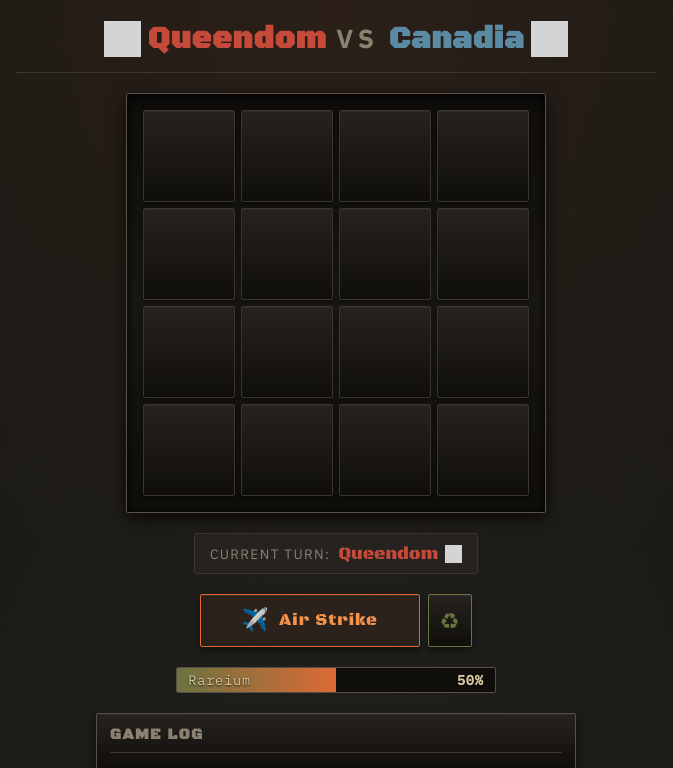
strategiske våpen: målvalg › avfyrer ikke før alle målene er valgt
The image size is (673, 768).
Click the button "✈️ Air Strike" at (310, 621), box top-left (200, 594), bottom-right (420, 648)
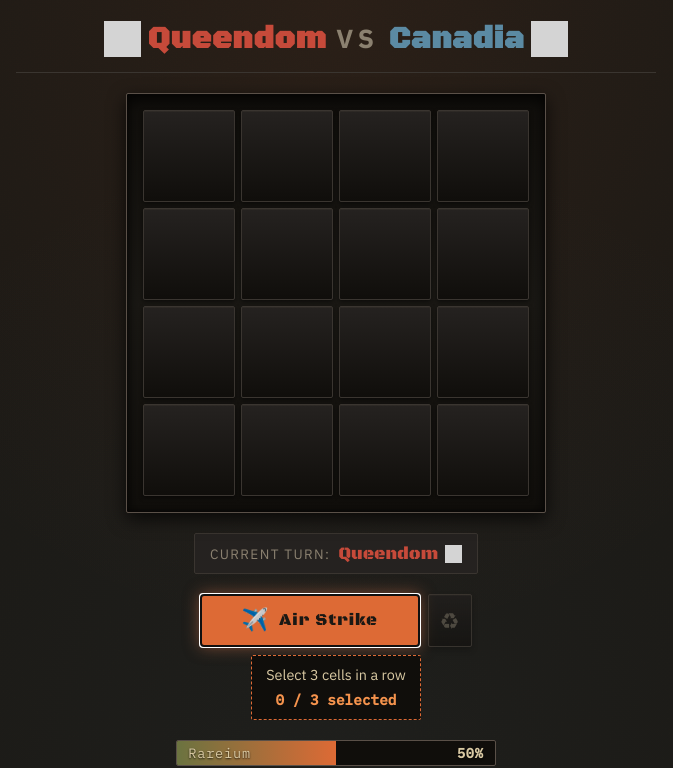
Click the button named "the Salt Marches" at (189, 156), box top-left (143, 110), bottom-right (235, 202)
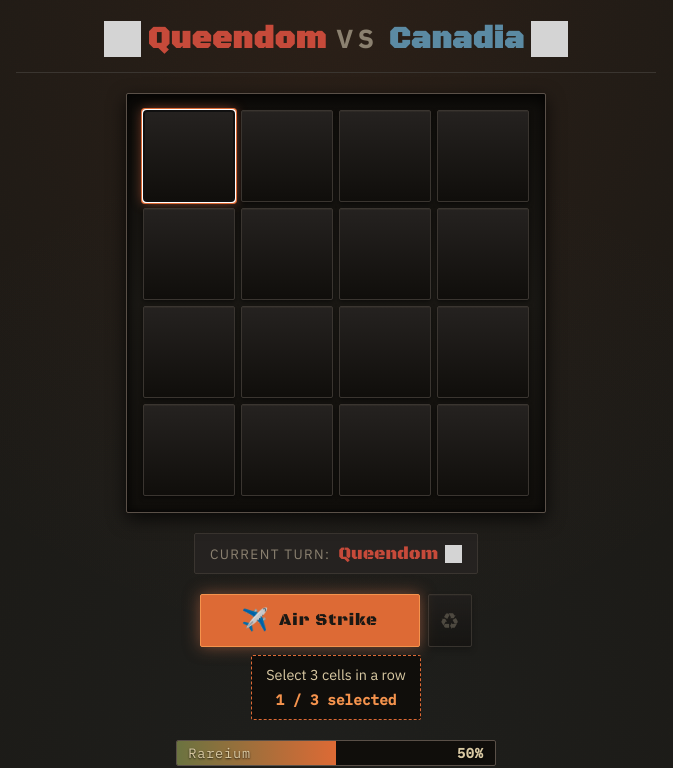
Click the button named "the Corn Belt Desert" at (287, 156), box top-left (241, 110), bottom-right (333, 202)
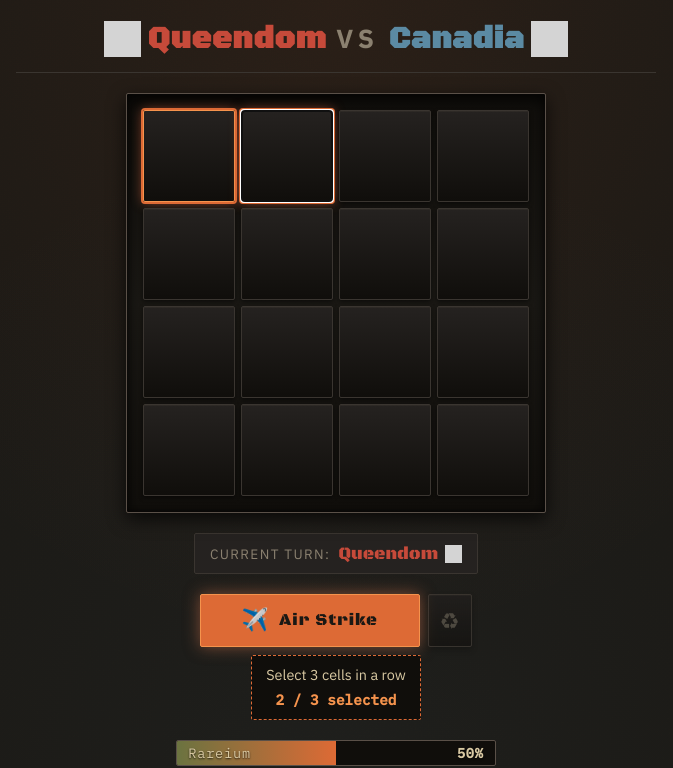
Result: the text "2 / 3 selected" is shown at top-left (276, 689), bottom-right (396, 711)
